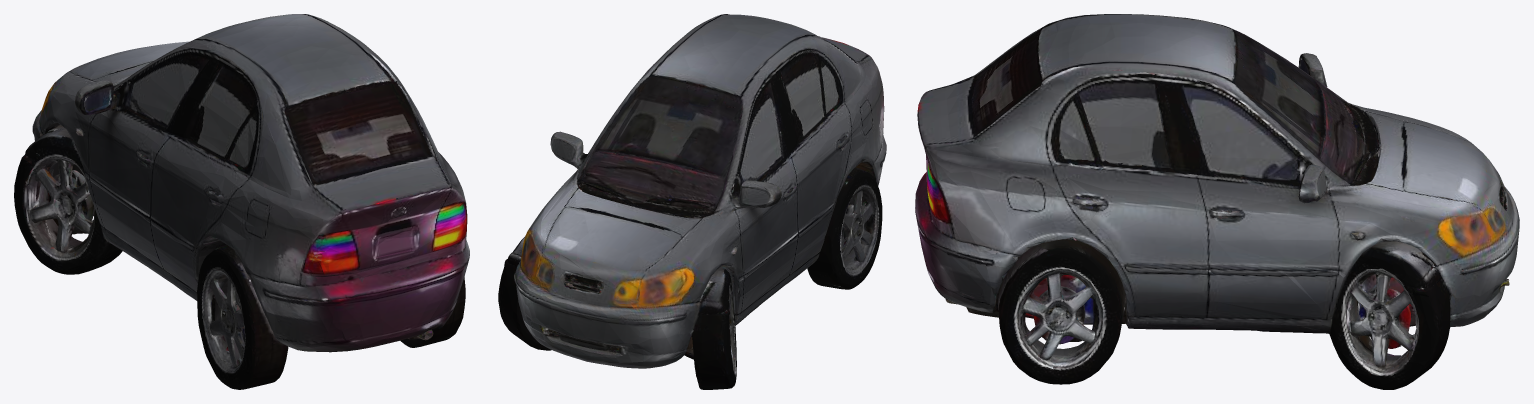
The model's file is car_sedan.glb.
The picture shows the model from 3 angles, left to right: view 1: azimuth 30°, elevation 25°; view 2: azimuth 150°, elevation 25°; view 3: azimuth 270°, elevation 25°; orthographic projection. The views are drawn at different scales.
Parts seen in each view (by area): view 1: world; view 2: world; view 3: world.
Boxes of the visible parts, <box> form: world: <box>14,14,469,389</box>; world: <box>498,14,886,389</box>; world: <box>915,14,1519,389</box>.
Bounding box in the file's own units: 1.04 × 1.09 × 1.99.
Materials: 1 (1 with a texture image).
